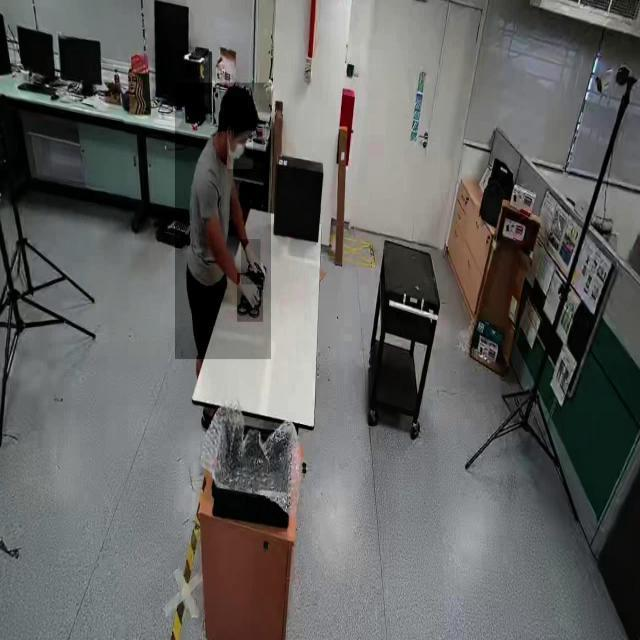gloves: (236, 273, 264, 323), (241, 239, 261, 285)
